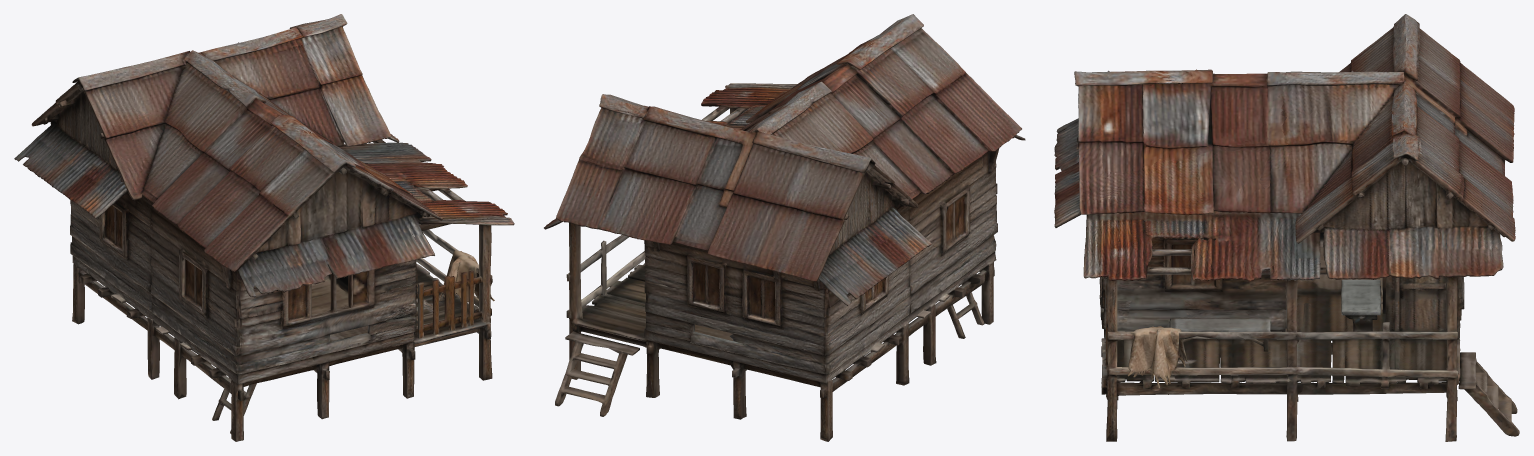
3 renders of one model, left to right at view 1: azimuth 30°, elevation 25°; view 2: azimuth 150°, elevation 25°; view 3: azimuth 270°, elevation 25°, orthographic. The views are drawn at different scales.
Visible parts, largest first — view 1: tripo_node_792e7f65-178c-4ff1-8d20-12fedf6fb08b; view 2: tripo_node_792e7f65-178c-4ff1-8d20-12fedf6fb08b; view 3: tripo_node_792e7f65-178c-4ff1-8d20-12fedf6fb08b.
Boxes of the visible parts, x1,y1,x2,y2 form: tripo_node_792e7f65-178c-4ff1-8d20-12fedf6fb08b: (14,14,514,441); tripo_node_792e7f65-178c-4ff1-8d20-12fedf6fb08b: (544,14,1025,441); tripo_node_792e7f65-178c-4ff1-8d20-12fedf6fb08b: (1054,14,1519,441).
Bounding box in the file's own units: 0.8406 × 0.687 × 1.
Materials: 1 (1 with a texture image).
